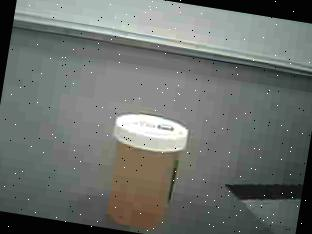Bottle B: (81, 98, 195, 234)
